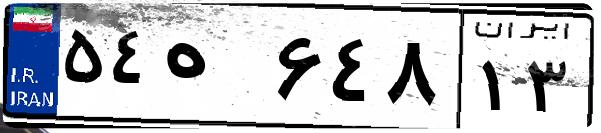1: (475, 38, 525, 113)
3: (525, 38, 570, 115)
4: (330, 28, 385, 110), (110, 28, 158, 98)
5: (57, 26, 110, 100)
6: (270, 28, 330, 110)
8: (385, 28, 445, 110)
ه: (158, 20, 270, 120)
